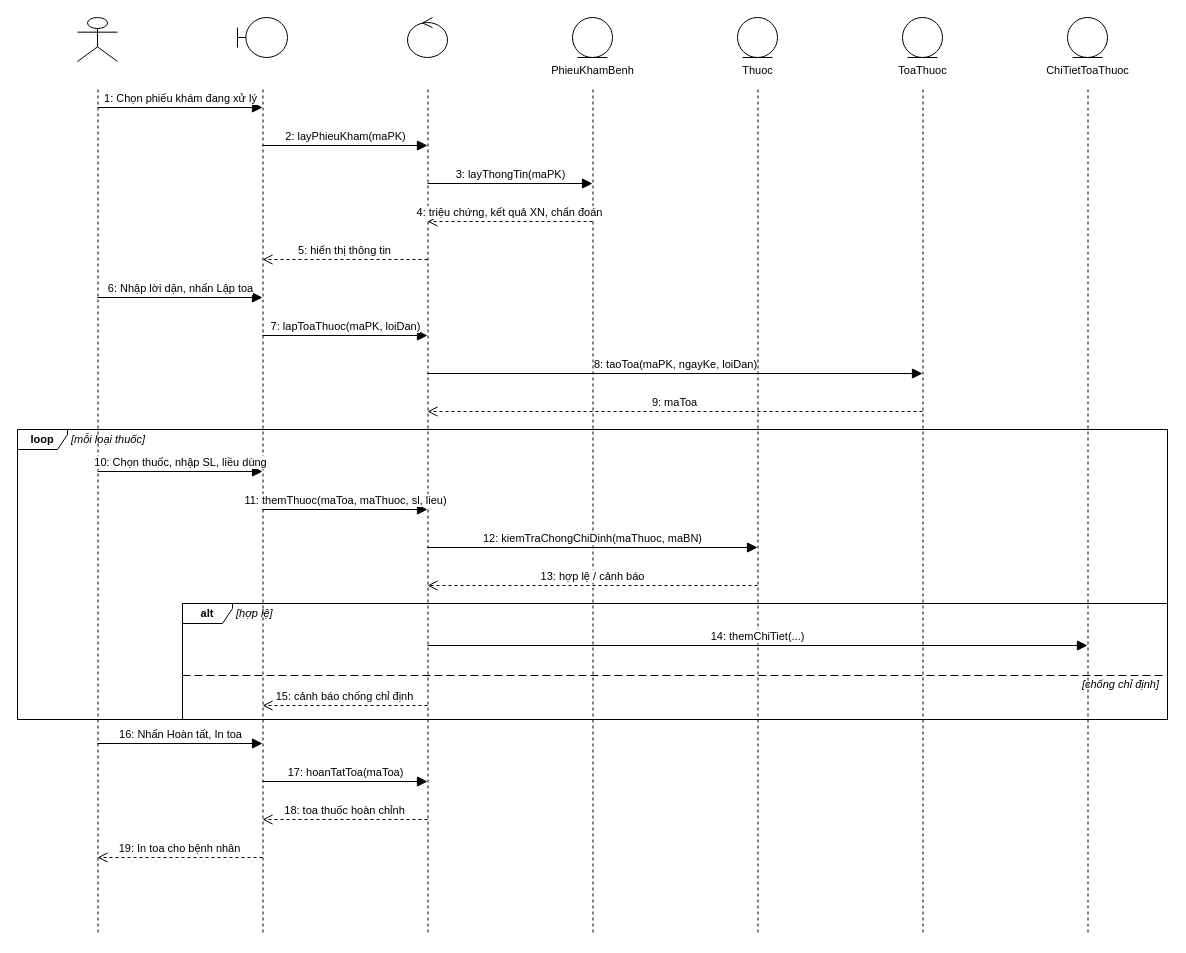
Some shapes in this 1186 by 953 pixel diagram are drawn without their labels. The shapes that lost their labels are listed below. From the top down, each one's centre as x and y in pixels, then its label:
the point at 97,39: Bác sĩ
the point at 262,37: FrmKhamBenh
the point at 427,37: ToaThuocService
